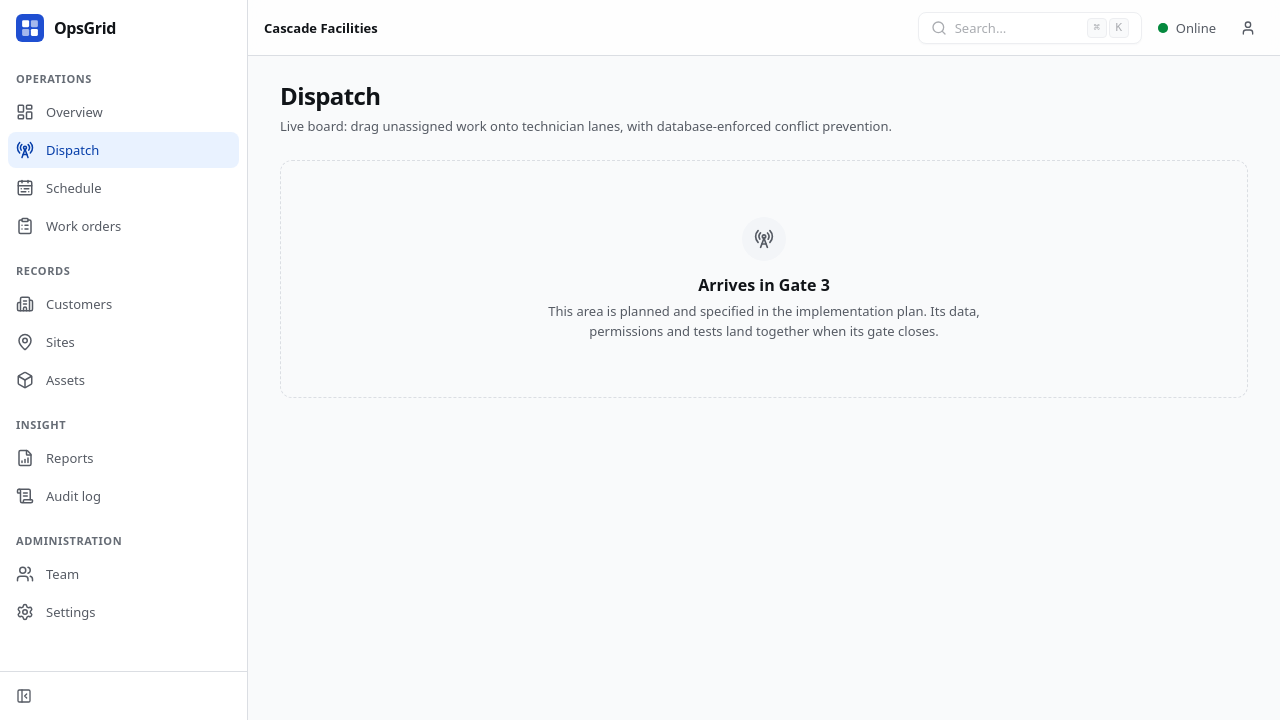
Test: application shell › moves focus to the new page heading after navigation
Click the link "Assets" at [50, 380], box [16,371,85,389]
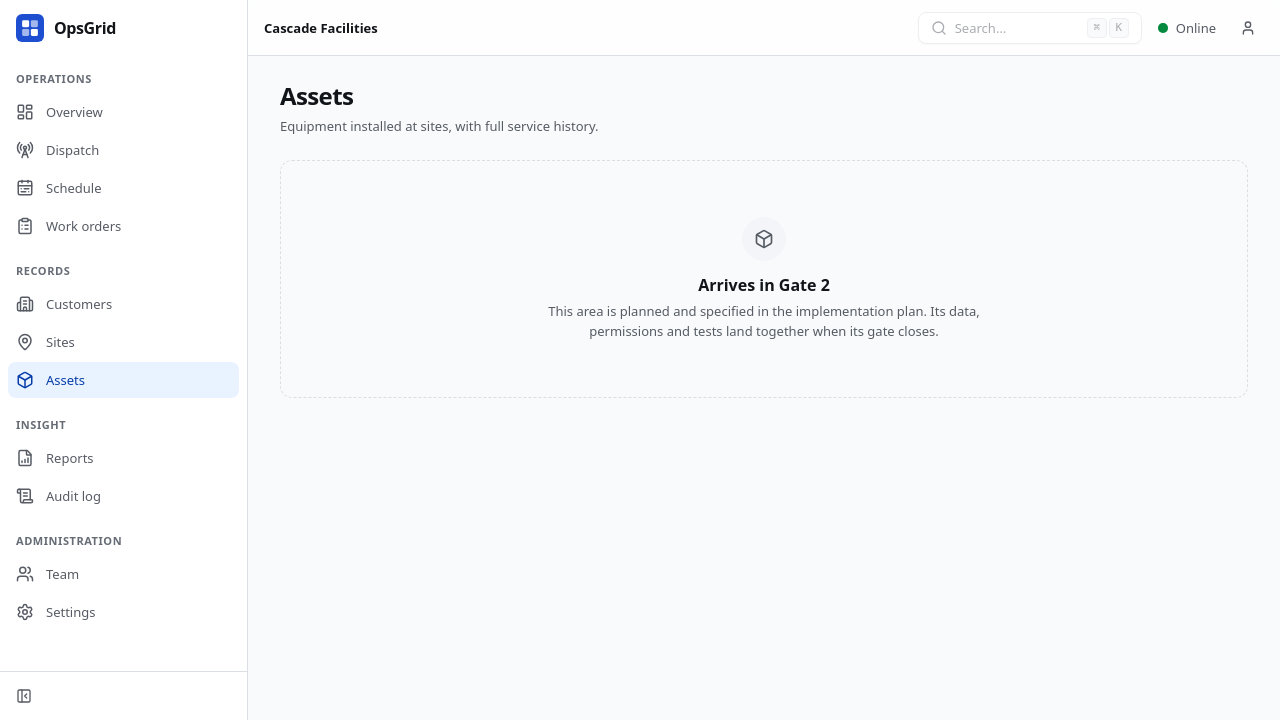
Expected: the text "Assets" is shown, [46,370,85,390]
Expected: the heading "Assets" is shown, [280,79,353,112]
